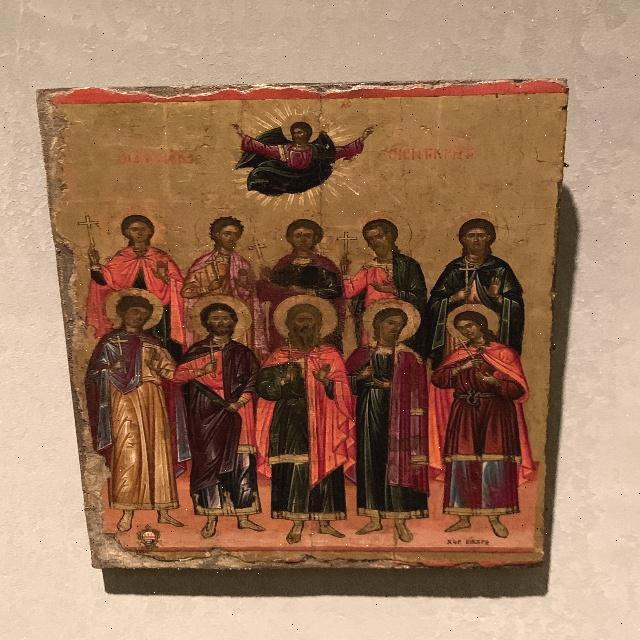aura: (183, 296, 252, 339), (346, 210, 413, 254), (446, 211, 512, 254), (264, 212, 337, 250), (266, 300, 338, 338), (105, 285, 169, 327), (107, 205, 168, 248), (362, 297, 419, 338), (192, 210, 252, 247), (443, 305, 498, 342)
christ_pantocrator: (229, 109, 392, 207)
cross: (354, 335, 379, 397), (456, 336, 488, 377), (79, 214, 103, 254), (206, 254, 228, 297), (335, 232, 361, 266), (110, 334, 132, 371), (202, 338, 221, 377), (458, 262, 480, 295), (282, 344, 298, 383)
saint: (443, 311, 536, 535), (268, 297, 344, 538), (359, 302, 428, 539), (189, 296, 253, 539), (109, 287, 166, 542), (83, 215, 179, 337), (427, 211, 536, 309), (340, 209, 428, 299), (263, 217, 345, 297), (185, 212, 253, 297)
